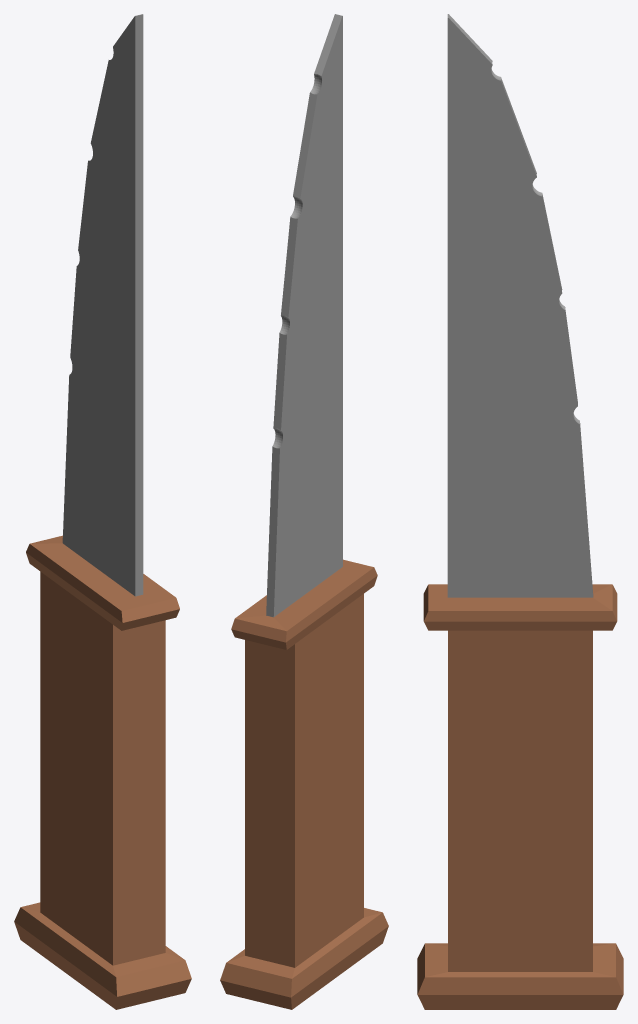
File: knife.fbx
3 renders of one model, left to right at view 1: azimuth 30°, elevation 25°; view 2: azimuth 150°, elevation 25°; view 3: azimuth 270°, elevation 25°, orthographic. The views are drawn at different scales.
Visible parts, largest first — view 1: Cube; view 2: Cube; view 3: Cube.
Part boxes in pixels (x1,y1,x2,y2): Cube: [14, 14, 191, 1009]; Cube: [220, 14, 388, 1009]; Cube: [417, 14, 623, 1009].
Bounding box in the file's own units: 65.92 × 824 × 158.
